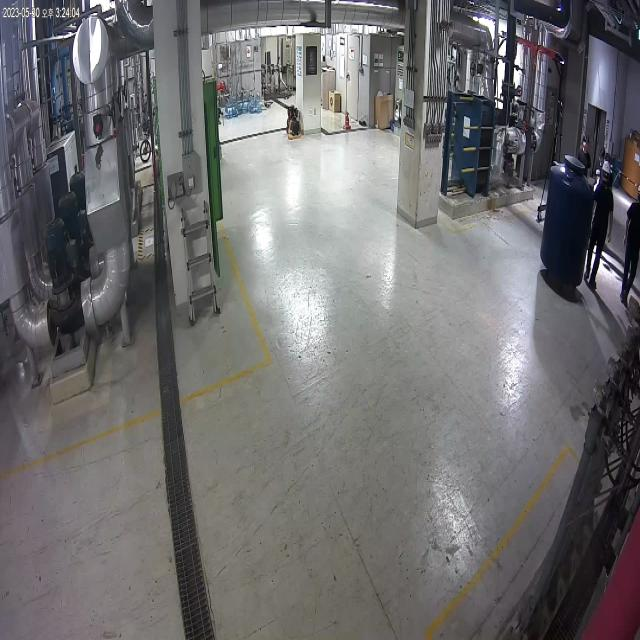Water Tank: (536, 150, 592, 289)
worker: (579, 152, 614, 302), (615, 164, 640, 309)
